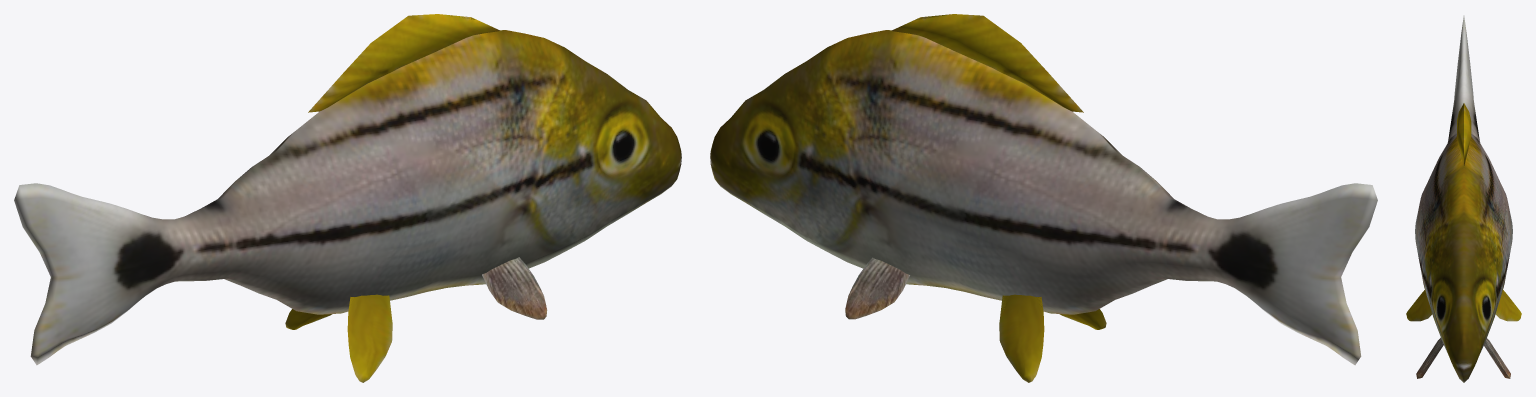
Rendered from Fish 10.fbx.
3 views of the same model, side by side, from view 1: azimuth 30°, elevation 25°; view 2: azimuth 150°, elevation 25°; view 3: azimuth 270°, elevation 25° (orthographic). The views are drawn at different scales.
Parts seen in each view (by area): view 1: Fish_10; view 2: Fish_10; view 3: Fish_10.
Part boxes in pixels (bbox=[...]): Fish_10: bbox=[14, 14, 681, 382]; Fish_10: bbox=[710, 14, 1377, 382]; Fish_10: bbox=[1406, 15, 1521, 382].
Size of the model in its own units: 9.1 by 4.17 by 1.77.
Materials: 1 (1 with a texture image).
